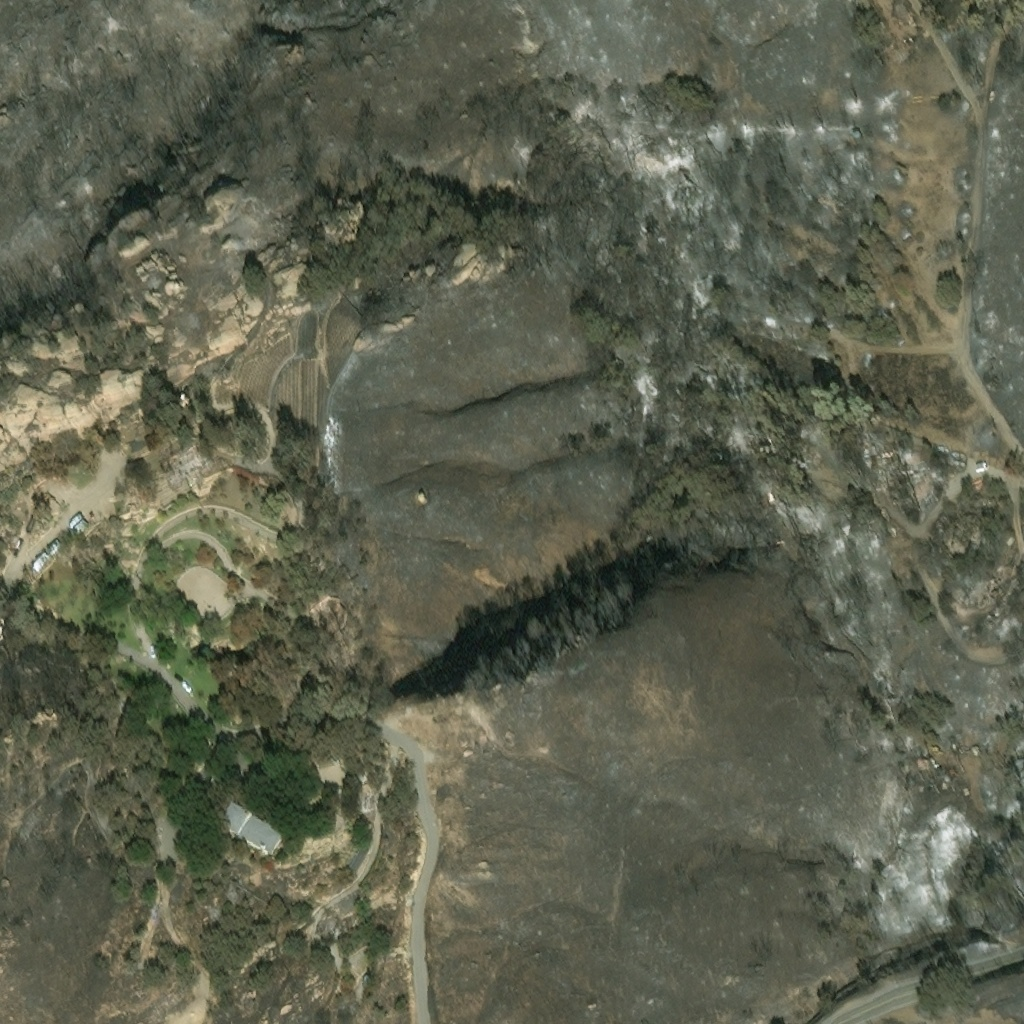0 no-damage: (215, 805, 286, 864)
3 destroyed: (878, 456, 926, 486), (176, 455, 204, 482), (720, 232, 732, 244), (1005, 535, 1017, 545), (178, 393, 188, 405), (957, 744, 969, 753), (0, 625, 5, 645), (852, 132, 862, 140), (423, 506, 430, 514)
